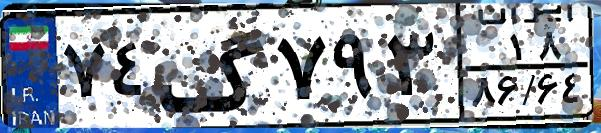1: (508, 27, 537, 80)
3: (385, 28, 445, 110)
4: (110, 28, 156, 98), (560, 70, 590, 125)
6: (495, 70, 520, 125), (535, 70, 560, 125)
7: (270, 28, 330, 110), (57, 26, 110, 100)
8: (537, 27, 568, 80), (470, 70, 495, 125)
9: (330, 28, 385, 110)
گ: (156, 12, 270, 120)
